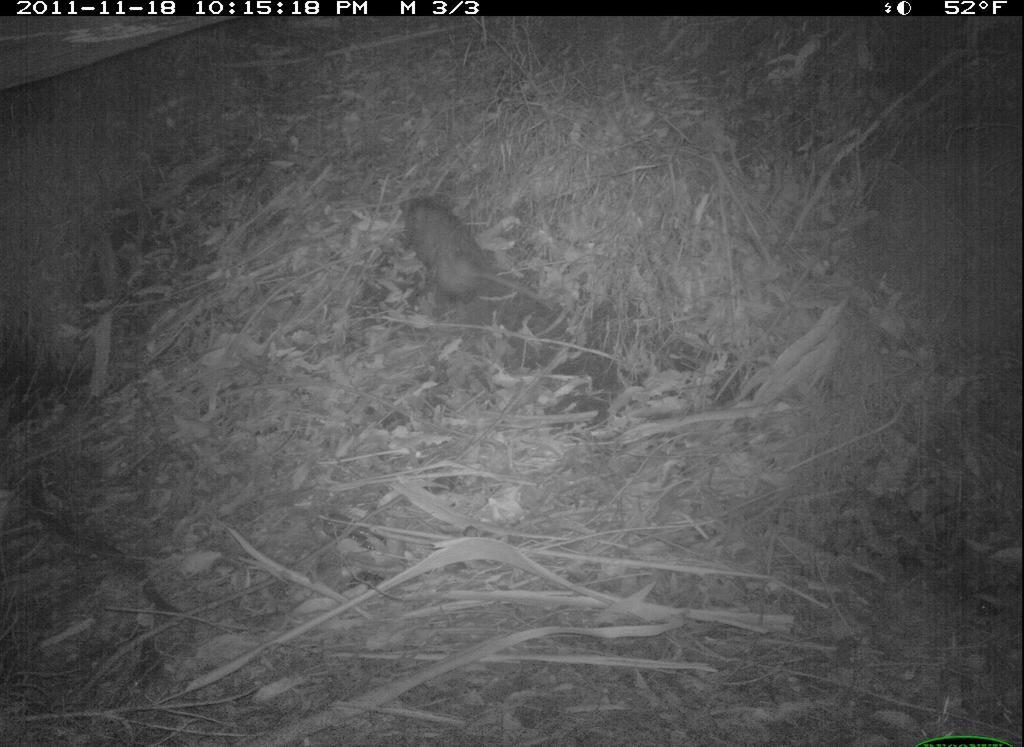opossum: (386, 173, 506, 322)
